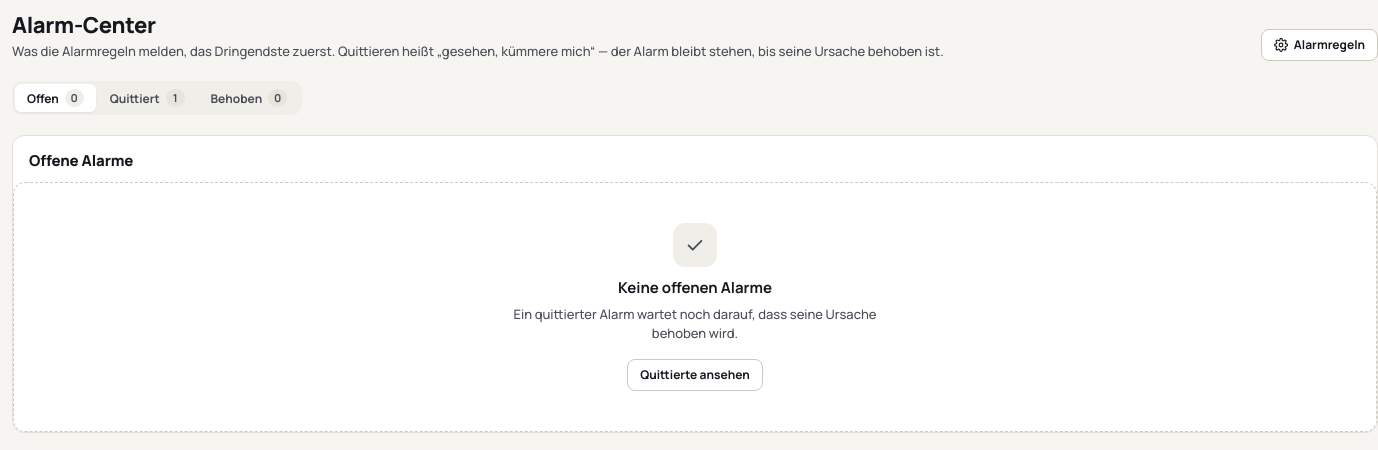
it: AlertsPage › loading, empty and failed › points at acknowledged alerts that are still waiting
The image size is (1378, 450).
Expected: the text "Ein quittierter Alarm wartet noch" is shown, [514,305,876,342]
Click the button "Quittierte ansehen" at (695, 375), box [627,359,763,391]
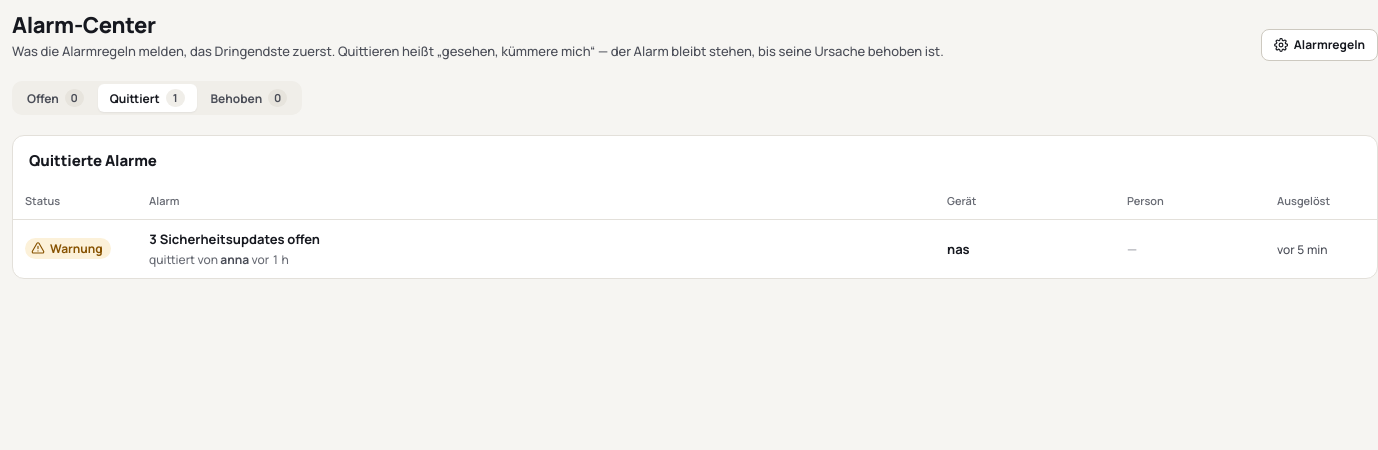
Now the text "3 Sicherheitsupdates offen" is shown, box [149,230,320,248]
